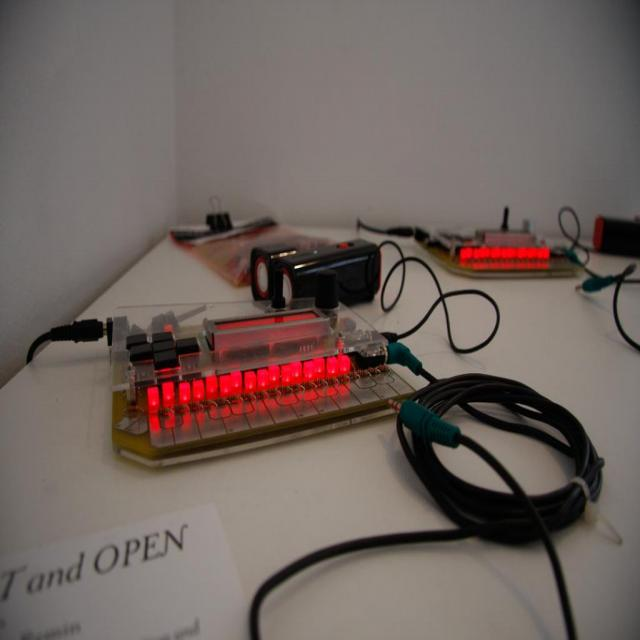Table: (0, 278, 618, 632)
